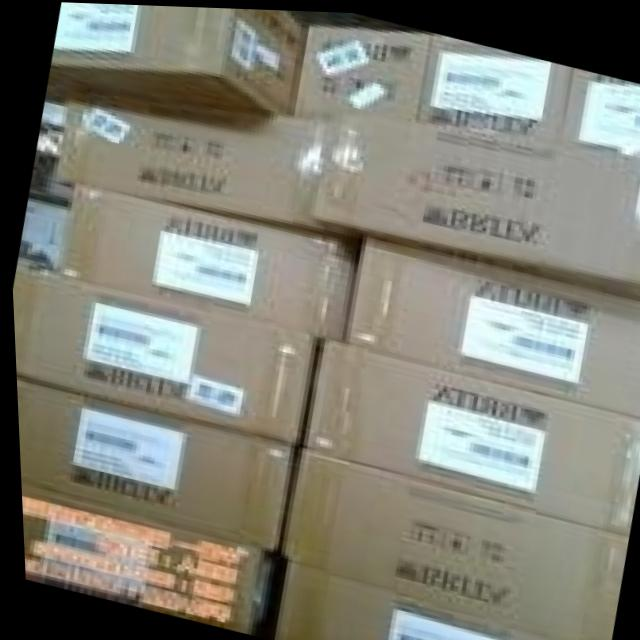box: (277, 445, 624, 640), (299, 338, 640, 529), (310, 110, 640, 297), (11, 266, 329, 443), (341, 236, 640, 412), (13, 374, 297, 552), (56, 181, 362, 337), (53, 88, 342, 228), (17, 485, 272, 630), (47, 2, 304, 110), (268, 560, 565, 640), (416, 32, 570, 140), (294, 23, 429, 117), (558, 63, 640, 149)
